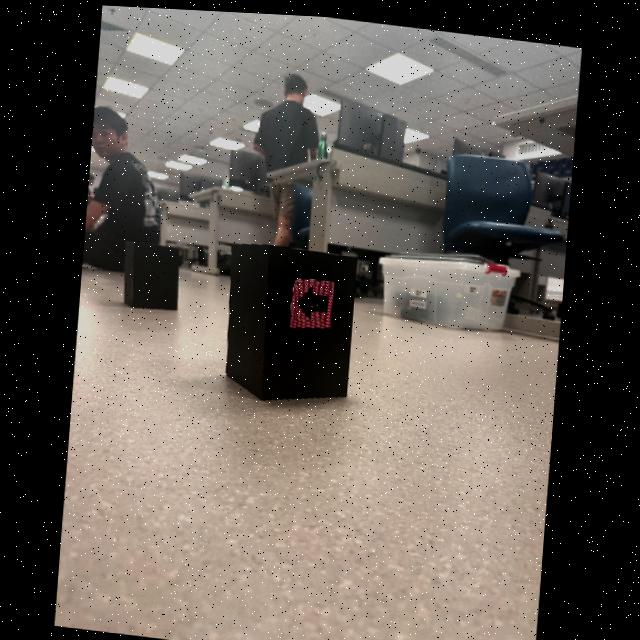LEFT: (297, 283, 327, 317)
